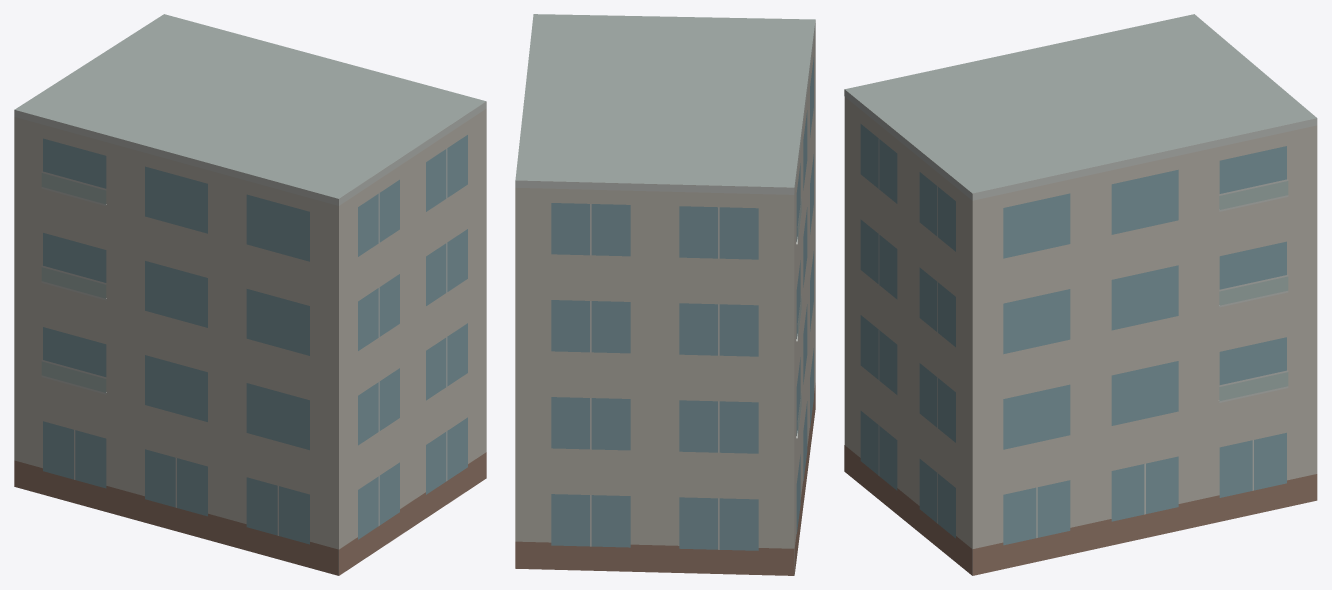
Rendered from survey-upis-32738542.glb.
The picture shows the model from 3 angles, left to right: view 1: azimuth 30°, elevation 25°; view 2: azimuth 150°, elevation 25°; view 3: azimuth 270°, elevation 25°; orthographic projection. The views are drawn at different scales.
Parts seen in each view (by area): view 1: survey-upis-32738542.tmp; view 2: survey-upis-32738542.tmp; view 3: survey-upis-32738542.tmp.
Part boxes in pixels (left/top/right/bottom): survey-upis-32738542.tmp: left=14, top=14, right=486, bottom=575; survey-upis-32738542.tmp: left=515, top=14, right=815, bottom=575; survey-upis-32738542.tmp: left=844, top=14, right=1317, bottom=575.
Size of the model in its own units: 13.05 by 12.95 by 14.53.
